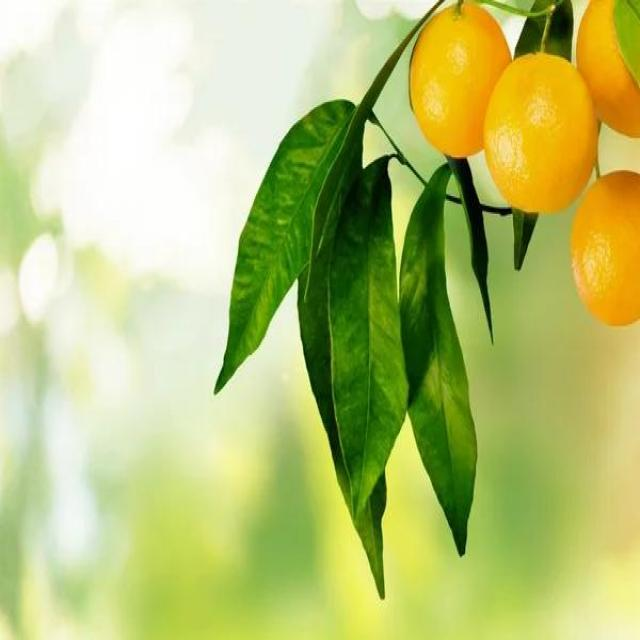Jeruk Sudah Matang: (481, 50, 600, 212), (412, 1, 511, 160), (568, 168, 640, 330), (574, 0, 640, 136)
